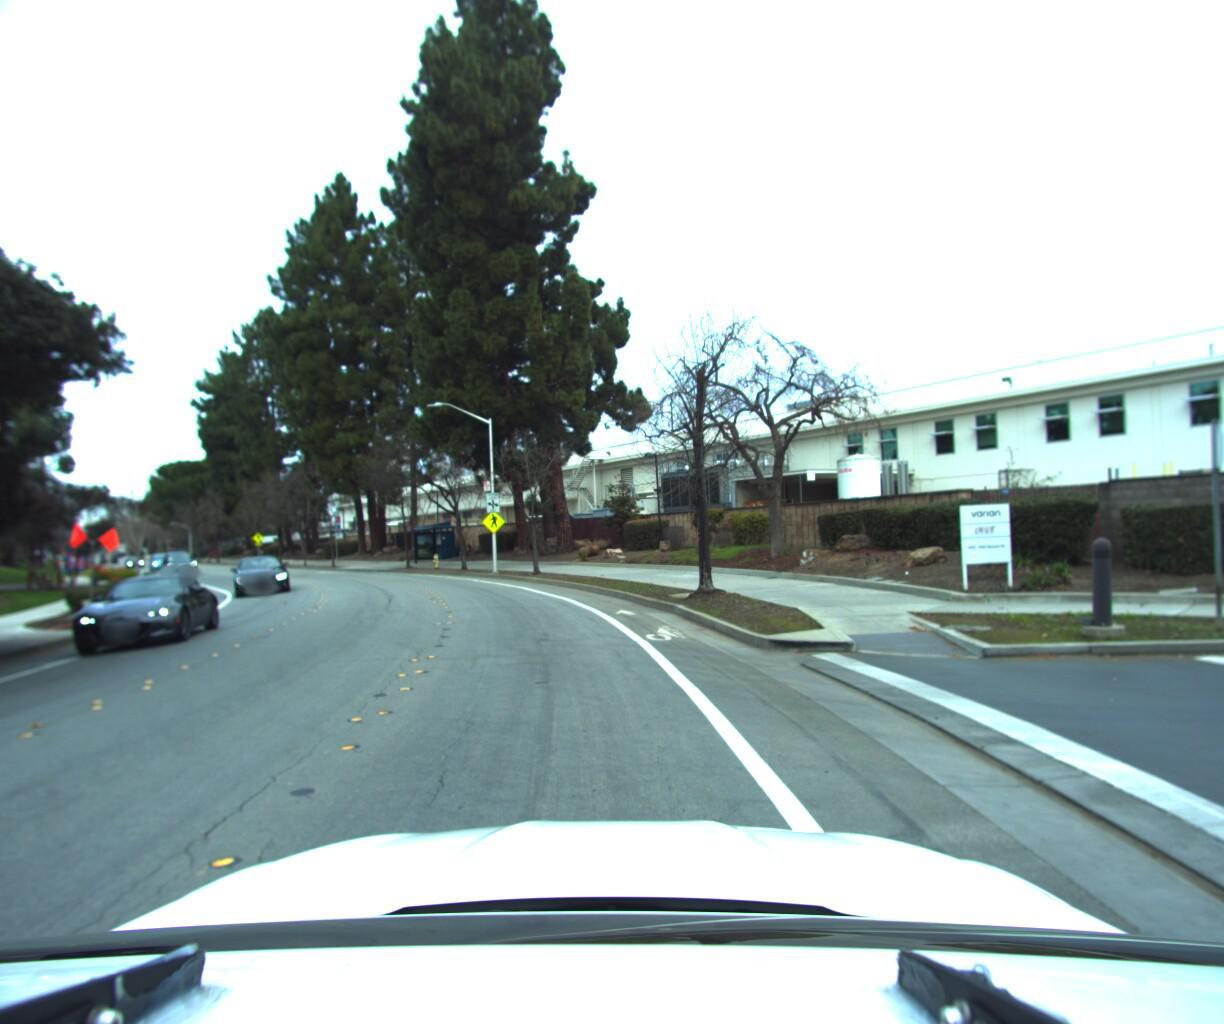car: (55, 559, 226, 663), (238, 549, 297, 596), (161, 548, 201, 575), (147, 550, 174, 570)
